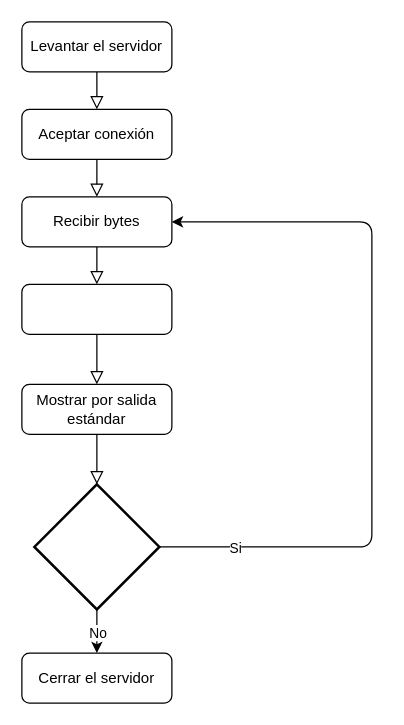
Some shapes in this 404 by 725 pixel diagram are drawn without their labels. The shapes that lost their labels are listed below. From the top down, each one's centre as x and y in pixels, then its label:
pixel 96 308: Decodificarlo
pixel 96 546: ¿Hay más bytes por leer?
